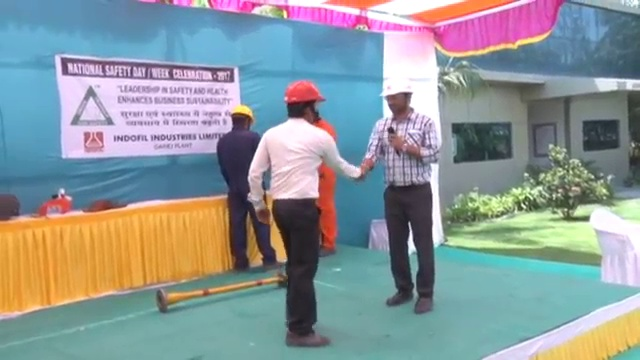helmet: (282, 78, 329, 104), (378, 75, 417, 98), (230, 103, 257, 125)
helmet_on: (281, 78, 327, 128), (376, 73, 418, 121), (227, 101, 259, 133)
person: (247, 77, 361, 349), (359, 73, 444, 314), (217, 101, 285, 269), (308, 110, 341, 257)
